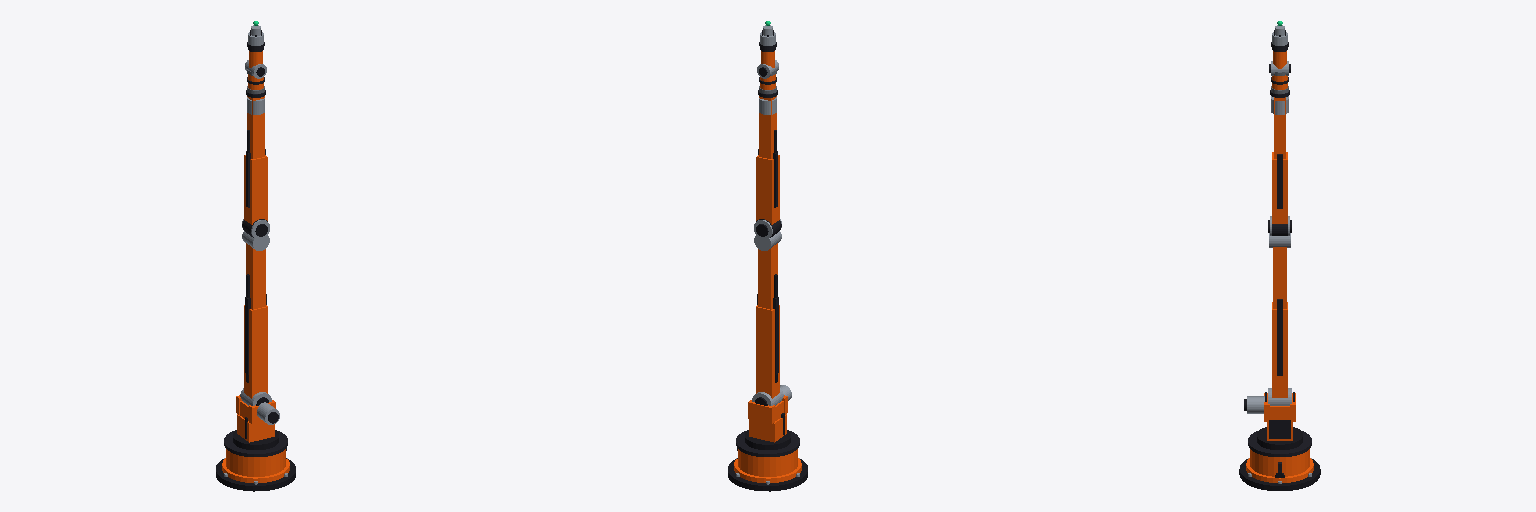
The robot description file, URDF, robot "kuka_kr20_r1810":
<?xml version="1.0" encoding="utf-8"?>
<robot name="kuka_kr20_r1810">
  <!-- KUKA KR 20 R1810-2 — procedurally generated by orolp.robot_library.urdf_builder (payload 20 kg, reach 1813 mm, 6 DOF, repeatability ±0.04 mm). Appearance: 60 primitives in 'industrial' style (primary/accent/metal/dark 4-role palette). No vendor CAD assets. Parameters verified=True. -->
  <link name="base_link">
    <visual>
      <origin xyz="0 0 0.013054" rpy="0 0 0"/>
      <geometry>
        <cylinder radius="0.177142" length="0.026107"/>
      </geometry>
      <material name="base_link_mat_0">
        <color rgba="0.136 0.136 0.1615 1"/>
      </material>
    </visual>
    <visual>
      <origin xyz="0 0 0.037529" rpy="0 0 0"/>
      <geometry>
        <cylinder radius="0.148059" length="0.022844"/>
      </geometry>
      <material name="base_link_mat_1">
        <color rgba="1 0.416 0.075 1"/>
      </material>
    </visual>
    <visual>
      <origin xyz="0 0 0.099534" rpy="0 0 0"/>
      <geometry>
        <cylinder radius="0.132196" length="0.101165"/>
      </geometry>
      <material name="base_link_mat_2">
        <color rgba="1 0.416 0.075 1"/>
      </material>
    </visual>
    <visual>
      <origin xyz="0 0 0.155011" rpy="0 0 0"/>
      <geometry>
        <cylinder radius="0.140127" length="0.016317"/>
      </geometry>
      <material name="base_link_mat_3">
        <color rgba="0.16 0.16 0.19 1"/>
      </material>
    </visual>
    <visual>
      <origin xyz="0.118976 0 0.101165" rpy="0 0 0"/>
      <geometry>
        <box size="0.068742 0.015863 0.042424"/>
      </geometry>
      <material name="base_link_mat_4">
        <color rgba="0.16 0.16 0.19 1"/>
      </material>
    </visual>
    <visual>
      <origin xyz="0.12162 0 0.048951" rpy="0 1.570796 0"/>
      <geometry>
        <cylinder radius="0.022473" length="0.039659"/>
      </geometry>
      <material name="base_link_mat_5">
        <color rgba="0.136 0.136 0.1615 1"/>
      </material>
    </visual>
    <visual>
      <origin xyz="0.150703 0 0.021212" rpy="0 0 0"/>
      <geometry>
        <cylinder radius="0.009915" length="0.035897"/>
      </geometry>
      <material name="base_link_mat_6">
        <color rgba="0.6 0.63 0.67 1"/>
      </material>
    </visual>
    <visual>
      <origin xyz="0.075351 0.130513 0.021212" rpy="0 0 0"/>
      <geometry>
        <cylinder radius="0.009915" length="0.035897"/>
      </geometry>
      <material name="base_link_mat_7">
        <color rgba="0.6 0.63 0.67 1"/>
      </material>
    </visual>
    <visual>
      <origin xyz="-0.075351 0.130513 0.021212" rpy="0 0 0"/>
      <geometry>
        <cylinder radius="0.009915" length="0.035897"/>
      </geometry>
      <material name="base_link_mat_8">
        <color rgba="0.6 0.63 0.67 1"/>
      </material>
    </visual>
    <visual>
      <origin xyz="-0.150703 0 0.021212" rpy="0 0 0"/>
      <geometry>
        <cylinder radius="0.009915" length="0.035897"/>
      </geometry>
      <material name="base_link_mat_9">
        <color rgba="0.6 0.63 0.67 1"/>
      </material>
    </visual>
    <visual>
      <origin xyz="-0.075351 -0.130513 0.021212" rpy="0 0 0"/>
      <geometry>
        <cylinder radius="0.009915" length="0.035897"/>
      </geometry>
      <material name="base_link_mat_10">
        <color rgba="0.6 0.63 0.67 1"/>
      </material>
    </visual>
    <visual>
      <origin xyz="0.075351 -0.130513 0.021212" rpy="0 0 0"/>
      <geometry>
        <cylinder radius="0.009915" length="0.035897"/>
      </geometry>
      <material name="base_link_mat_11">
        <color rgba="0.6 0.63 0.67 1"/>
      </material>
    </visual>
    <collision>
      <origin xyz="0 0 0.081585" rpy="0 0 0"/>
      <geometry>
        <cylinder radius="0.132196" length="0.16317"/>
      </geometry>
    </collision>
  </link>
  <joint name="joint_1" type="revolute">
    <parent link="base_link"/>
    <child link="link_1"/>
    <origin xyz="0 0 0.16317" rpy="0 0 0"/>
    <axis xyz="0 0 1"/>
    <limit lower="-3.228859" upper="3.228859" effort="160" velocity="3.490659"/>
  </joint>
  <link name="link_1">
    <visual>
      <origin xyz="0 0 0.013646" rpy="0 0 0"/>
      <geometry>
        <cylinder radius="0.102345" length="0.027292"/>
      </geometry>
      <material name="link_1_mat_0">
        <color rgba="0.136 0.136 0.1615 1"/>
      </material>
    </visual>
    <visual>
      <origin xyz="0 0 0.073161" rpy="0 0 0"/>
      <geometry>
        <box size="0.129637 0.110874 0.091738"/>
      </geometry>
      <material name="link_1_mat_1">
        <color rgba="1 0.416 0.075 1"/>
      </material>
    </visual>
    <visual>
      <origin xyz="0 0 0.152933" rpy="0 0 0"/>
      <geometry>
        <box size="0.114285 0.095522 0.067806"/>
      </geometry>
      <material name="link_1_mat_2">
        <color rgba="1 0.416 0.075 1"/>
      </material>
    </visual>
    <visual>
      <origin xyz="0 0.05629 0.159544" rpy="0 0 0"/>
      <geometry>
        <box size="0.119402 0.028998 0.079772"/>
      </geometry>
      <material name="link_1_mat_3">
        <color rgba="1 0.416 0.075 1"/>
      </material>
    </visual>
    <visual>
      <origin xyz="0 -0.05629 0.159544" rpy="0 0 0"/>
      <geometry>
        <box size="0.119402 0.028998 0.079772"/>
      </geometry>
      <material name="link_1_mat_4">
        <color rgba="1 0.416 0.075 1"/>
      </material>
    </visual>
    <visual>
      <origin xyz="0 -0.100639 0.17151" rpy="1.570796 0 0"/>
      <geometry>
        <cylinder radius="0.037526" length="0.089552"/>
      </geometry>
      <material name="link_1_mat_5">
        <color rgba="0.6 0.63 0.67 1"/>
      </material>
    </visual>
    <visual>
      <origin xyz="0 -0.150106 0.17151" rpy="1.570796 0 0"/>
      <geometry>
        <cylinder radius="0.025586" length="0.013646"/>
      </geometry>
      <material name="link_1_mat_6">
        <color rgba="0.136 0.136 0.1615 1"/>
      </material>
    </visual>
    <visual>
      <origin xyz="-0.059701 -0.02388 0.083761" rpy="0 0 0"/>
      <geometry>
        <cylinder radius="0.009382" length="0.099715"/>
      </geometry>
      <material name="link_1_mat_7">
        <color rgba="0.136 0.136 0.1615 1"/>
      </material>
    </visual>
    <visual>
      <origin xyz="0.061407 0 0.083761" rpy="0 0 0"/>
      <geometry>
        <box size="0.008529 0.098933 0.087749"/>
      </geometry>
      <material name="link_1_mat_8">
        <color rgba="0.16 0.16 0.19 1"/>
      </material>
    </visual>
    <collision>
      <origin xyz="0 0 0.099715" rpy="0 0 0"/>
      <geometry>
        <cylinder radius="0.102345" length="0.19943"/>
      </geometry>
    </collision>
  </link>
  <joint name="joint_2" type="revolute">
    <parent link="link_1"/>
    <child link="link_2"/>
    <origin xyz="0 0 0.19943" rpy="0 0 0"/>
    <axis xyz="0 1 0"/>
    <limit lower="-3.228859" upper="1.134464" effort="160" velocity="3.054326"/>
  </joint>
  <link name="link_2">
    <visual>
      <origin xyz="0 0 0.225175" rpy="0 0 0"/>
      <geometry>
        <box size="0.083582 0.071641 0.450349"/>
      </geometry>
      <material name="link_2_mat_0">
        <color rgba="1 0.416 0.075 1"/>
      </material>
    </visual>
    <visual>
      <origin xyz="0 0 0.625485" rpy="0 0 0"/>
      <geometry>
        <box size="0.06823 0.057995 0.41699"/>
      </geometry>
      <material name="link_2_mat_1">
        <color rgba="1 0.416 0.075 1"/>
      </material>
    </visual>
    <visual>
      <origin xyz="0 0 0.316912" rpy="0 0 0"/>
      <geometry>
        <box size="0.098933 0.025586 0.366951"/>
      </geometry>
      <material name="link_2_mat_2">
        <color rgba="0.16 0.16 0.19 1"/>
      </material>
    </visual>
    <visual>
      <origin xyz="0 0 0" rpy="1.570796 0 0"/>
      <geometry>
        <cylinder radius="0.049467" length="0.109168"/>
      </geometry>
      <material name="link_2_mat_3">
        <color rgba="0.6 0.63 0.67 1"/>
      </material>
    </visual>
    <visual>
      <origin xyz="0 0.059701 0" rpy="1.570796 0 0"/>
      <geometry>
        <cylinder radius="0.030703" length="0.008529"/>
      </geometry>
      <material name="link_2_mat_4">
        <color rgba="0.136 0.136 0.1615 1"/>
      </material>
    </visual>
    <visual>
      <origin xyz="0 -0.059701 0" rpy="1.570796 0 0"/>
      <geometry>
        <cylinder radius="0.030703" length="0.008529"/>
      </geometry>
      <material name="link_2_mat_5">
        <color rgba="0.136 0.136 0.1615 1"/>
      </material>
    </visual>
    <visual>
      <origin xyz="0 0 -0.060047" rpy="0 0 0"/>
      <geometry>
        <box size="0.09211 0.076759 0.125097"/>
      </geometry>
      <material name="link_2_mat_6">
        <color rgba="0.136 0.136 0.1615 1"/>
      </material>
    </visual>
    <visual>
      <origin xyz="0 0 -0.126765" rpy="0 0 0"/>
      <geometry>
        <cylinder radius="0.049467" length="0.033359"/>
      </geometry>
      <material name="link_2_mat_7">
        <color rgba="0.136 0.136 0.1615 1"/>
      </material>
    </visual>
    <visual>
      <origin xyz="0 0 0.775601" rpy="1.570796 0 0"/>
      <geometry>
        <cylinder radius="0.042644" length="0.093816"/>
      </geometry>
      <material name="link_2_mat_8">
        <color rgba="0.6 0.63 0.67 1"/>
      </material>
    </visual>
    <visual>
      <origin xyz="0 0 0.83398" rpy="1.570796 0 0"/>
      <geometry>
        <cylinder radius="0.047761" length="0.073347"/>
      </geometry>
      <material name="link_2_mat_9">
        <color rgba="0.16 0.16 0.19 1"/>
      </material>
    </visual>
    <visual>
      <origin xyz="-0.039232 0 0.350272" rpy="0 0 0"/>
      <geometry>
        <cylinder radius="0.007676" length="0.517068"/>
      </geometry>
      <material name="link_2_mat_10">
        <color rgba="0.136 0.136 0.1615 1"/>
      </material>
    </visual>
    <collision>
      <origin xyz="0 0 0.41699" rpy="0 0 0"/>
      <geometry>
        <box size="0.085287 0.069936 0.83398"/>
      </geometry>
    </collision>
  </link>
  <joint name="joint_3" type="revolute">
    <parent link="link_2"/>
    <child link="link_3"/>
    <origin xyz="0 0 0.83398" rpy="0 0 0"/>
    <axis xyz="0 1 0"/>
    <limit lower="-2.408554" upper="3.054326" effort="160" velocity="3.316126"/>
  </joint>
  <link name="link_3">
    <visual>
      <origin xyz="0 0 0.169697" rpy="0 0 0"/>
      <geometry>
        <box size="0.078464 0.066524 0.339394"/>
      </geometry>
      <material name="link_3_mat_0">
        <color rgba="1 0.416 0.075 1"/>
      </material>
    </visual>
    <visual>
      <origin xyz="0 0 0.482983" rpy="0 0 0"/>
      <geometry>
        <box size="0.063113 0.052878 0.339394"/>
      </geometry>
      <material name="link_3_mat_1">
        <color rgba="1 0.416 0.075 1"/>
      </material>
    </visual>
    <visual>
      <origin xyz="0 0 0" rpy="1.570796 0 0"/>
      <geometry>
        <cylinder radius="0.046055" length="0.090405"/>
      </geometry>
      <material name="link_3_mat_2">
        <color rgba="0.6 0.63 0.67 1"/>
      </material>
    </visual>
    <visual>
      <origin xyz="0 0.049467 0" rpy="1.570796 0 0"/>
      <geometry>
        <cylinder radius="0.028998" length="0.008529"/>
      </geometry>
      <material name="link_3_mat_3">
        <color rgba="0.136 0.136 0.1615 1"/>
      </material>
    </visual>
    <visual>
      <origin xyz="0 -0.049467 0" rpy="1.570796 0 0"/>
      <geometry>
        <cylinder radius="0.028998" length="0.008529"/>
      </geometry>
      <material name="link_3_mat_4">
        <color rgba="0.136 0.136 0.1615 1"/>
      </material>
    </visual>
    <visual>
      <origin xyz="0 0 0.234965" rpy="0 0 0"/>
      <geometry>
        <box size="0.09211 0.02388 0.261072"/>
      </geometry>
      <material name="link_3_mat_5">
        <color rgba="0.16 0.16 0.19 1"/>
      </material>
    </visual>
    <visual>
      <origin xyz="0 0 0.587412" rpy="0 0 0"/>
      <geometry>
        <cylinder radius="0.039232" length="0.066524"/>
      </geometry>
      <material name="link_3_mat_6">
        <color rgba="0.6 0.63 0.67 1"/>
      </material>
    </visual>
    <visual>
      <origin xyz="0 0 0.646153" rpy="0 0 0"/>
      <geometry>
        <cylinder radius="0.042644" length="0.017057"/>
      </geometry>
      <material name="link_3_mat_7">
        <color rgba="0.16 0.16 0.19 1"/>
      </material>
    </visual>
    <visual>
      <origin xyz="-0.035821 0 0.287179" rpy="0 0 0"/>
      <geometry>
        <cylinder radius="0.006823" length="0.365501"/>
      </geometry>
      <material name="link_3_mat_8">
        <color rgba="0.136 0.136 0.1615 1"/>
      </material>
    </visual>
    <collision>
      <origin xyz="0 0 0.32634" rpy="0 0 0"/>
      <geometry>
        <box size="0.08017 0.06574 0.65268"/>
      </geometry>
    </collision>
  </link>
  <joint name="joint_4" type="revolute">
    <parent link="link_3"/>
    <child link="link_4"/>
    <origin xyz="0 0 0.65268" rpy="0 0 0"/>
    <axis xyz="0 0 1"/>
    <limit lower="-6.108652" upper="6.108652" effort="160" velocity="7.504916"/>
  </joint>
  <link name="link_4">
    <visual>
      <origin xyz="0 0 0.05439" rpy="0 0 0"/>
      <geometry>
        <cylinder radius="0.035821" length="0.102253"/>
      </geometry>
      <material name="link_4_mat_0">
        <color rgba="1 0.416 0.075 1"/>
      </material>
    </visual>
    <visual>
      <origin xyz="0 0 0.010878" rpy="0 0 0"/>
      <geometry>
        <cylinder radius="0.039232" length="0.017405"/>
      </geometry>
      <material name="link_4_mat_1">
        <color rgba="0.432 0.4536 0.4824 1"/>
      </material>
    </visual>
    <visual>
      <origin xyz="0 0 0.097902" rpy="0 0 0"/>
      <geometry>
        <cylinder radius="0.039232" length="0.017405"/>
      </geometry>
      <material name="link_4_mat_2">
        <color rgba="0.432 0.4536 0.4824 1"/>
      </material>
    </visual>
    <visual>
      <origin xyz="0 0 0.05439" rpy="0 0 0"/>
      <geometry>
        <cylinder radius="0.040938" length="0.010878"/>
      </geometry>
      <material name="link_4_mat_3">
        <color rgba="0.16 0.16 0.19 1"/>
      </material>
    </visual>
    <collision>
      <origin xyz="0 0 0.05439" rpy="0 0 0"/>
      <geometry>
        <cylinder radius="0.037526" length="0.10878"/>
      </geometry>
    </collision>
  </link>
  <joint name="joint_5" type="revolute">
    <parent link="link_4"/>
    <child link="link_5"/>
    <origin xyz="0 0 0.10878" rpy="0 0 0"/>
    <axis xyz="0 1 0"/>
    <limit lower="-2.268928" upper="2.268928" effort="160" velocity="7.504916"/>
  </joint>
  <link name="link_5">
    <visual>
      <origin xyz="0 0 0" rpy="1.570796 0 0"/>
      <geometry>
        <cylinder radius="0.034115" length="0.078464"/>
      </geometry>
      <material name="link_5_mat_0">
        <color rgba="0.6 0.63 0.67 1"/>
      </material>
    </visual>
    <visual>
      <origin xyz="0 0 0.048951" rpy="0 0 0"/>
      <geometry>
        <cylinder radius="0.032409" length="0.093551"/>
      </geometry>
      <material name="link_5_mat_1">
        <color rgba="1 0.416 0.075 1"/>
      </material>
    </visual>
    <visual>
      <origin xyz="0 0 0.102253" rpy="0 0 0"/>
      <geometry>
        <cylinder radius="0.035821" length="0.017405"/>
      </geometry>
      <material name="link_5_mat_2">
        <color rgba="0.16 0.16 0.19 1"/>
      </material>
    </visual>
    <visual>
      <origin xyz="0 0.042644 0" rpy="1.570796 0 0"/>
      <geometry>
        <cylinder radius="0.020469" length="0.008529"/>
      </geometry>
      <material name="link_5_mat_3">
        <color rgba="0.136 0.136 0.1615 1"/>
      </material>
    </visual>
    <visual>
      <origin xyz="0 -0.042644 0" rpy="1.570796 0 0"/>
      <geometry>
        <cylinder radius="0.020469" length="0.008529"/>
      </geometry>
      <material name="link_5_mat_4">
        <color rgba="0.136 0.136 0.1615 1"/>
      </material>
    </visual>
    <collision>
      <origin xyz="0 0 0.05439" rpy="0 0 0"/>
      <geometry>
        <box size="0.072494 0.059445 0.10878"/>
      </geometry>
    </collision>
  </link>
  <joint name="joint_6" type="revolute">
    <parent link="link_5"/>
    <child link="tool0"/>
    <origin xyz="0 0 0.10878" rpy="0 0 0"/>
    <axis xyz="0 0 1"/>
    <limit lower="-6.108652" upper="6.108652" effort="160" velocity="10.995574"/>
  </joint>
  <link name="tool0">
    <visual>
      <origin xyz="0 0 0.028283" rpy="0 0 0"/>
      <geometry>
        <cylinder radius="0.035821" length="0.056566"/>
      </geometry>
      <material name="tool0_mat_0">
        <color rgba="0.6 0.63 0.67 1"/>
      </material>
    </visual>
    <visual>
      <origin xyz="0 0 0.072883" rpy="0 0 0"/>
      <geometry>
        <cylinder radius="0.022209" length="0.032634"/>
      </geometry>
      <material name="tool0_mat_1">
        <color rgba="0.6 0.63 0.67 1"/>
      </material>
    </visual>
    <visual>
      <origin xyz="0 0 0.007615" rpy="0 0 0"/>
      <geometry>
        <cylinder radius="0.03797" length="0.015229"/>
      </geometry>
      <material name="tool0_mat_2">
        <color rgba="0.16 0.16 0.19 1"/>
      </material>
    </visual>
    <visual>
      <origin xyz="0.02794 0 0.05439" rpy="0 0 0"/>
      <geometry>
        <cylinder radius="0.003224" length="0.023932"/>
      </geometry>
      <material name="tool0_mat_3">
        <color rgba="0.136 0.136 0.1615 1"/>
      </material>
    </visual>
    <visual>
      <origin xyz="0.01397 0.024197 0.05439" rpy="0 0 0"/>
      <geometry>
        <cylinder radius="0.003224" length="0.023932"/>
      </geometry>
      <material name="tool0_mat_4">
        <color rgba="0.136 0.136 0.1615 1"/>
      </material>
    </visual>
    <visual>
      <origin xyz="-0.01397 0.024197 0.05439" rpy="0 0 0"/>
      <geometry>
        <cylinder radius="0.003224" length="0.023932"/>
      </geometry>
      <material name="tool0_mat_5">
        <color rgba="0.136 0.136 0.1615 1"/>
      </material>
    </visual>
    <visual>
      <origin xyz="-0.02794 0 0.05439" rpy="0 0 0"/>
      <geometry>
        <cylinder radius="0.003224" length="0.023932"/>
      </geometry>
      <material name="tool0_mat_6">
        <color rgba="0.136 0.136 0.1615 1"/>
      </material>
    </visual>
    <visual>
      <origin xyz="-0.01397 -0.024197 0.05439" rpy="0 0 0"/>
      <geometry>
        <cylinder radius="0.003224" length="0.023932"/>
      </geometry>
      <material name="tool0_mat_7">
        <color rgba="0.136 0.136 0.1615 1"/>
      </material>
    </visual>
    <visual>
      <origin xyz="0.01397 -0.024197 0.05439" rpy="0 0 0"/>
      <geometry>
        <cylinder radius="0.003224" length="0.023932"/>
      </geometry>
      <material name="tool0_mat_8">
        <color rgba="0.136 0.136 0.1615 1"/>
      </material>
    </visual>
    <collision>
      <origin xyz="0 0 0.05439" rpy="0 0 0"/>
      <geometry>
        <cylinder radius="0.035821" length="0.10878"/>
      </geometry>
    </collision>
  </link>
  <link name="tcp">
    <visual>
      <origin xyz="0 0 0" rpy="0 0 0"/>
      <geometry>
        <sphere radius="0.012179"/>
      </geometry>
      <material name="tcp_mat">
        <color rgba="0.15 0.85 0.55 1"/>
      </material>
    </visual>
  </link>
  <joint name="tcp_joint" type="fixed">
    <parent link="tool0"/>
    <child link="tcp"/>
    <origin xyz="0 0 0.10878" rpy="0 0 0"/>
  </joint>
</robot>

--- What the picture shows (computed from the rendered views, not written in the file) ---
The picture shows the robot from 3 angles, left to right: view 1: azimuth 30°, elevation 25°; view 2: azimuth 150°, elevation 25°; view 3: azimuth 270°, elevation 25°; orthographic projection.
Model kuka_kr20_r1810 with 8 links and 7 joints (6 revolute, 1 fixed), rooted at base_link, posed every joint at zero.
Visible links, largest first — view 1: link_2, base_link, link_3, link_1; view 2: link_2, base_link, link_3, link_1; view 3: base_link, link_2, link_3, link_1.
Link boxes in pixels (x1,y1,x2,y2): link_2: (240,219,271,405); base_link: (216,431,295,491); link_3: (242,90,269,237); link_1: (233,395,279,449); link_2: (752,219,783,405); base_link: (728,431,807,491); link_3: (754,90,781,237); link_1: (745,385,791,449); base_link: (1239,431,1320,490); link_2: (1265,224,1294,405); link_3: (1268,90,1291,235); link_1: (1244,393,1302,449).
Size in the robot's own frame: 0.3543 by 0.3543 by 2.19 metres.
Geometry: primitives only (box / cylinder / sphere), no mesh files.
